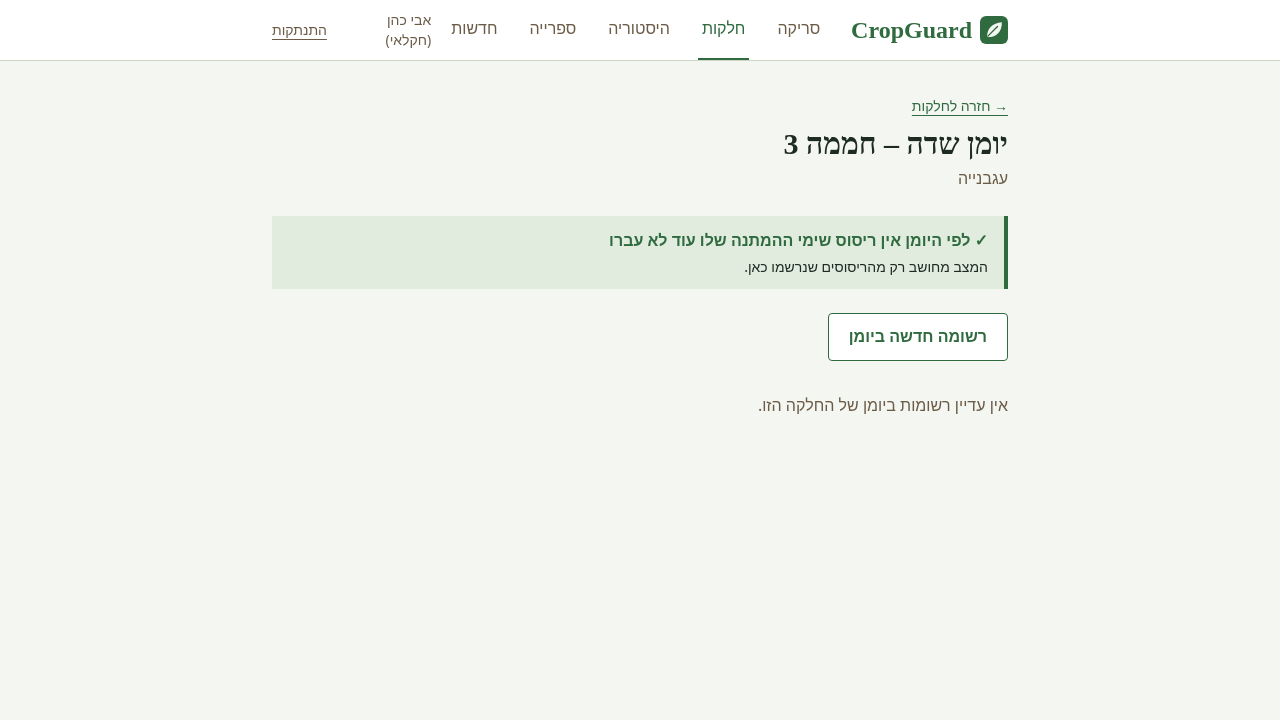
Test: field journal page › does not ask for PHI or a label check for fertilizing
The width and height of the screenshot is (1280, 720).
Click the button "רשומה חדשה ביומן".
click(918, 337)  # box [828,313,1008,361]
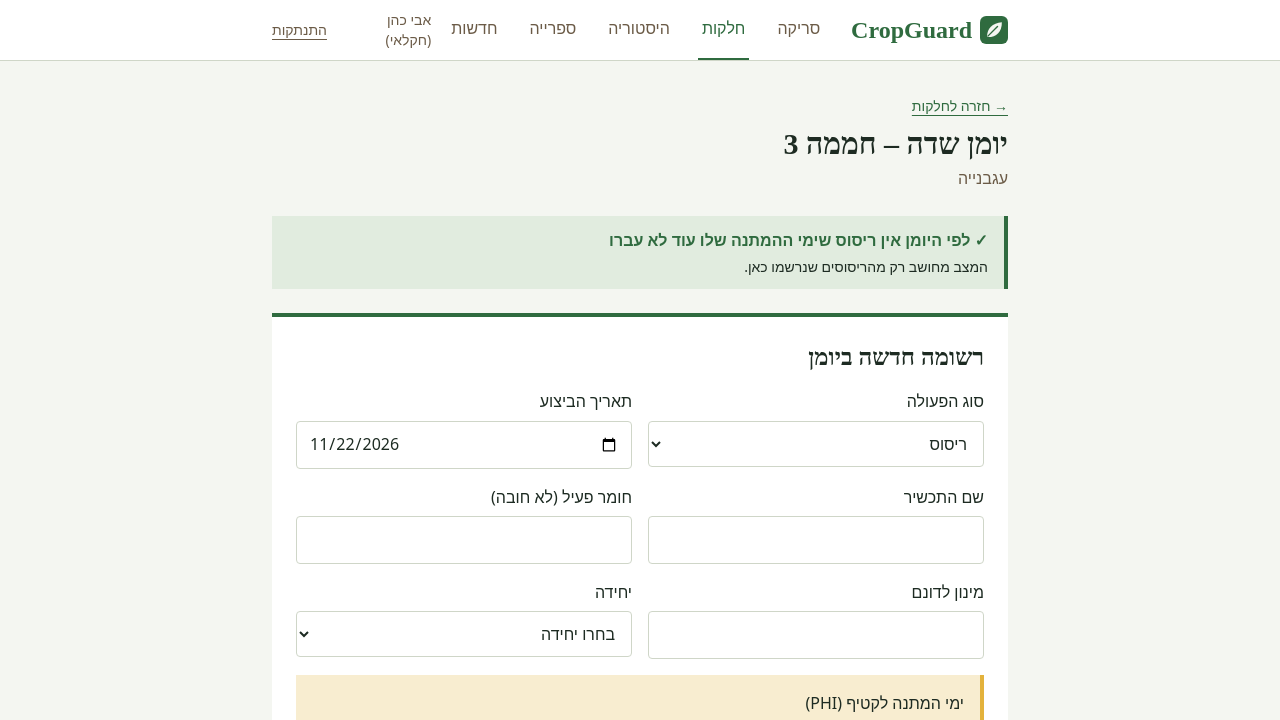
Select "דישון" in the dropdown labelled "סוג הפעולה" at (816, 444), box [648,421,984,467]
(page scrolled)
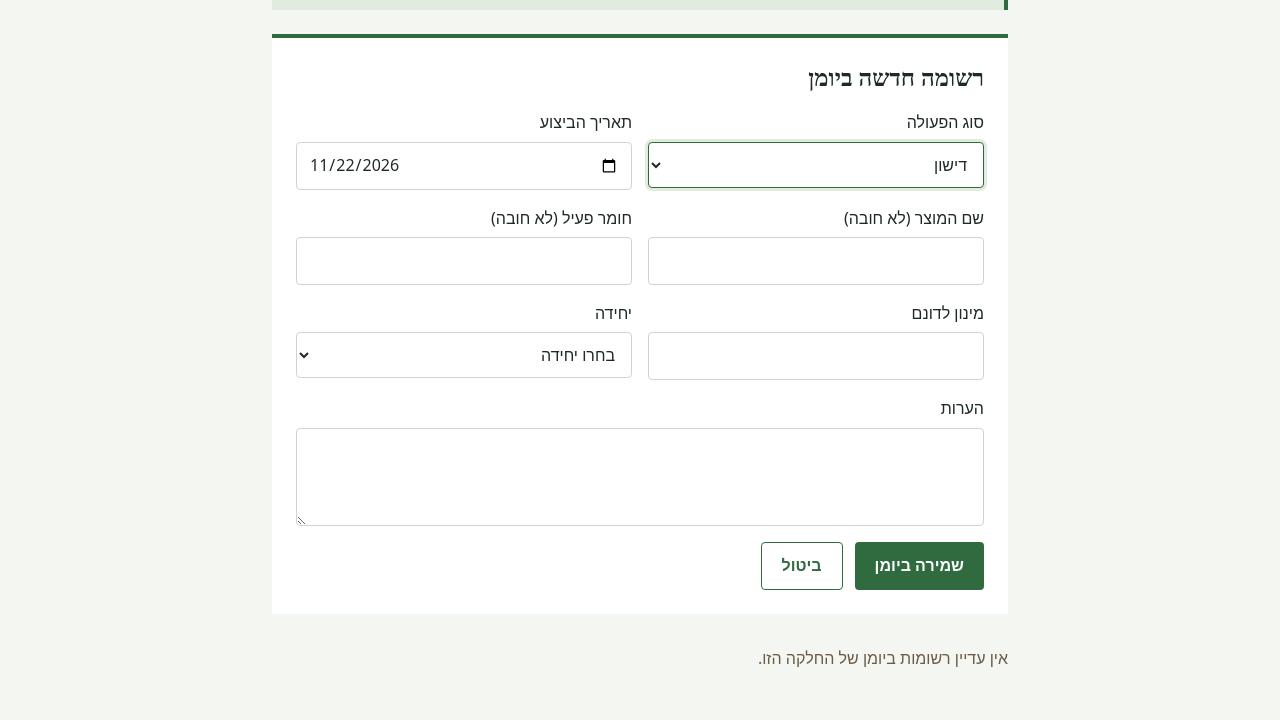
expect the label labelled "ימי המתנה לקטיף (PHI)" is gone: met
Click the button "שמירה ביומן".
click(919, 566)  # box [855,542,984,590]
(page scrolled)
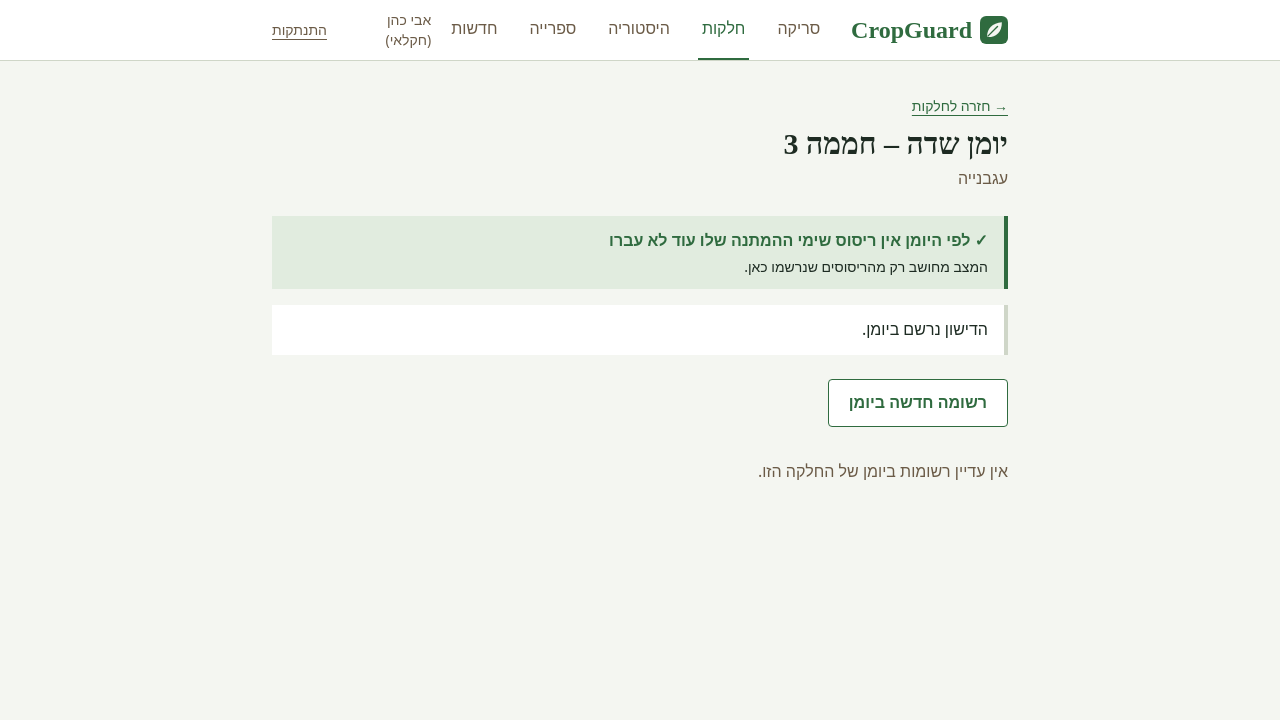
expect the text "הדישון נרשם ביומן." is shown: met, box [272,305,1008,355]
